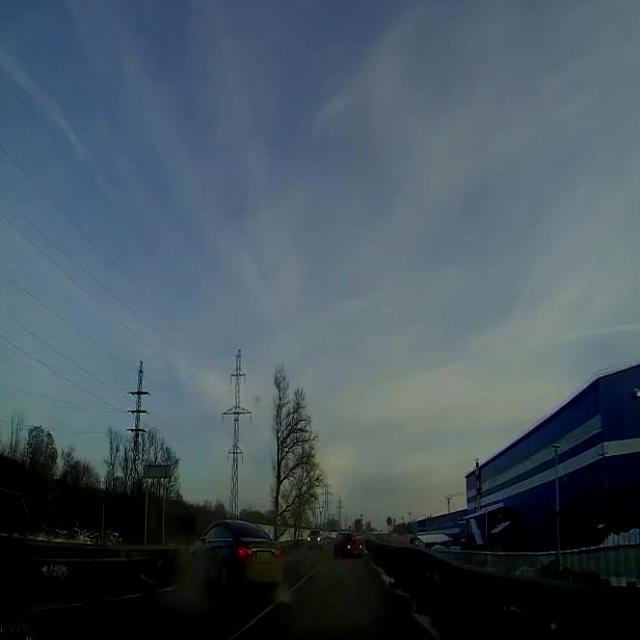accident: (176, 498, 285, 602)
